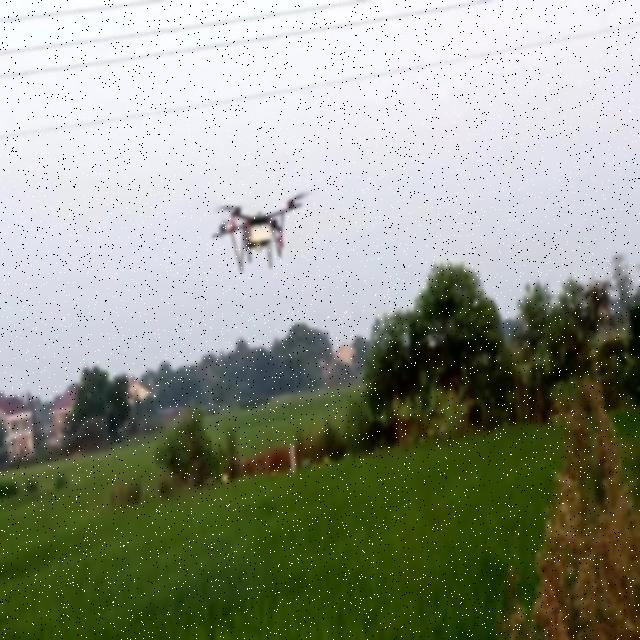UAV: (212, 191, 314, 274)
